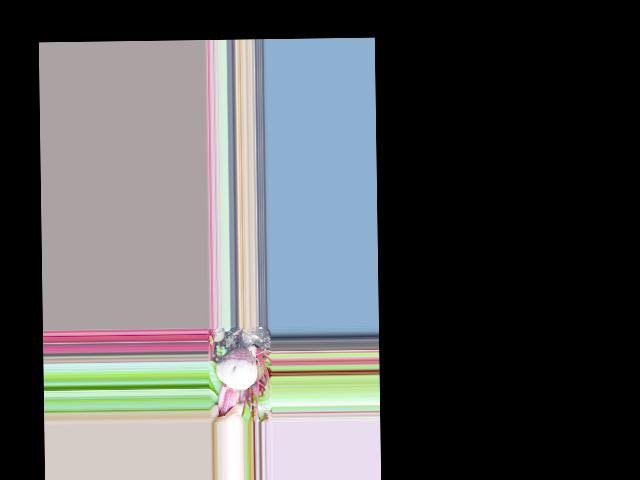beet: (215, 326, 258, 416)
